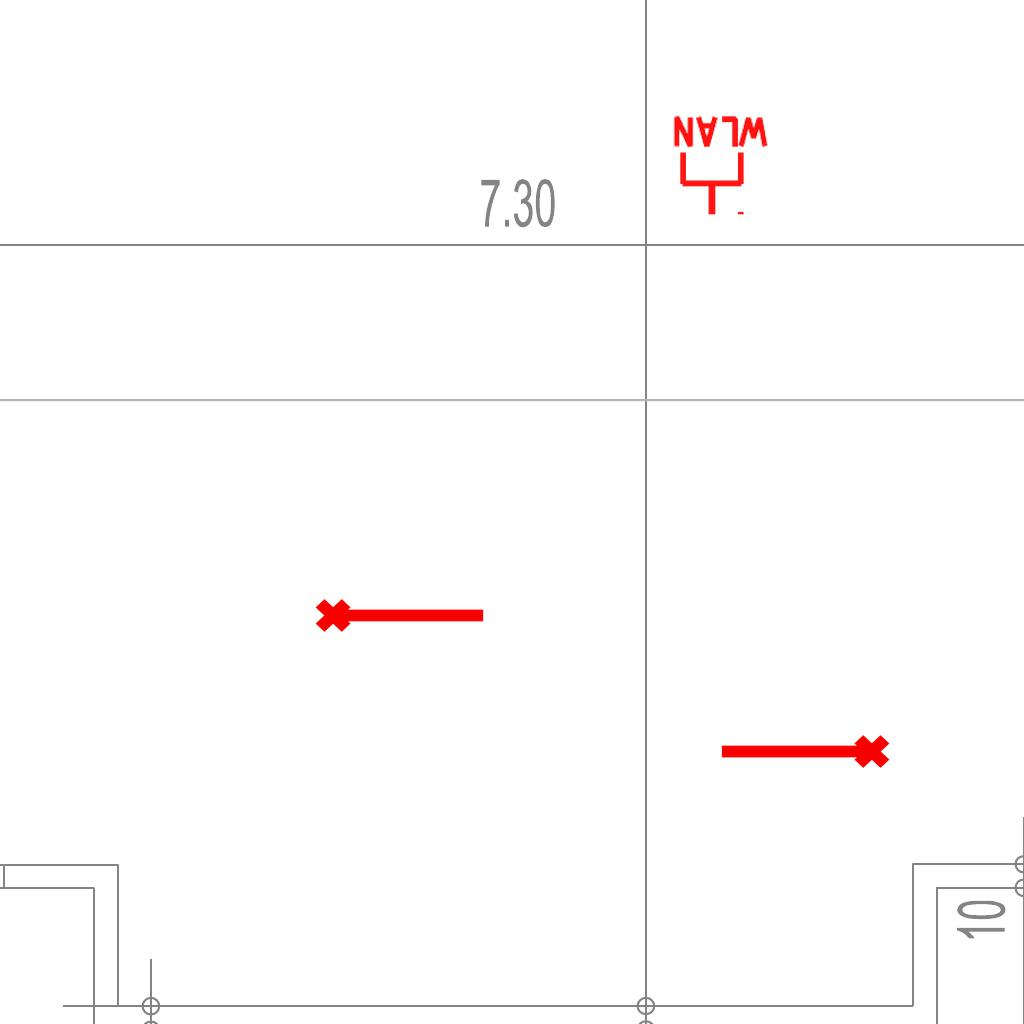ASR_Ansaugoeffnung: (716, 731, 892, 777), (313, 590, 489, 636)
WLAN: (669, 114, 773, 219)
